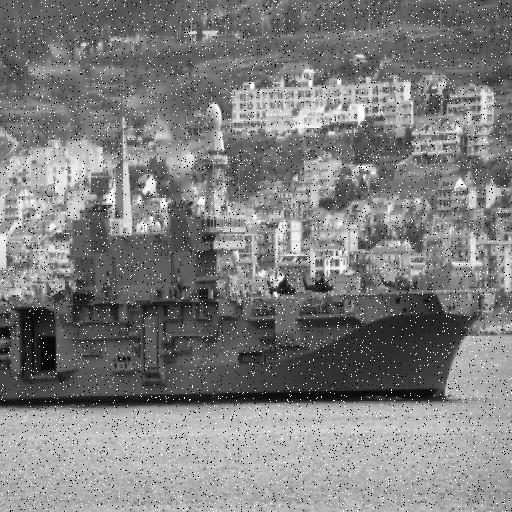Portanaves: (1, 98, 500, 409)
